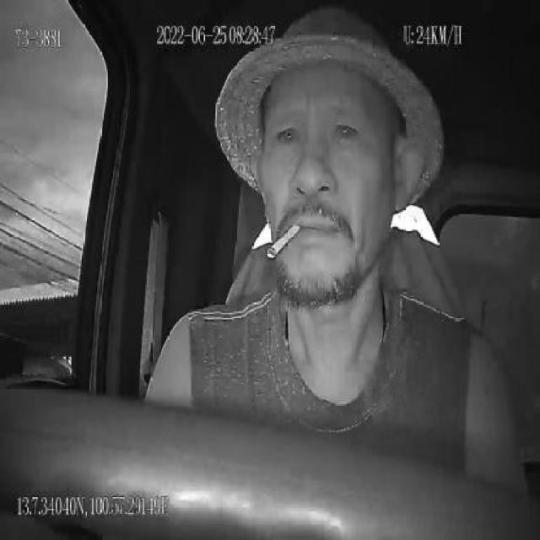smoking: (267, 222, 303, 263)
